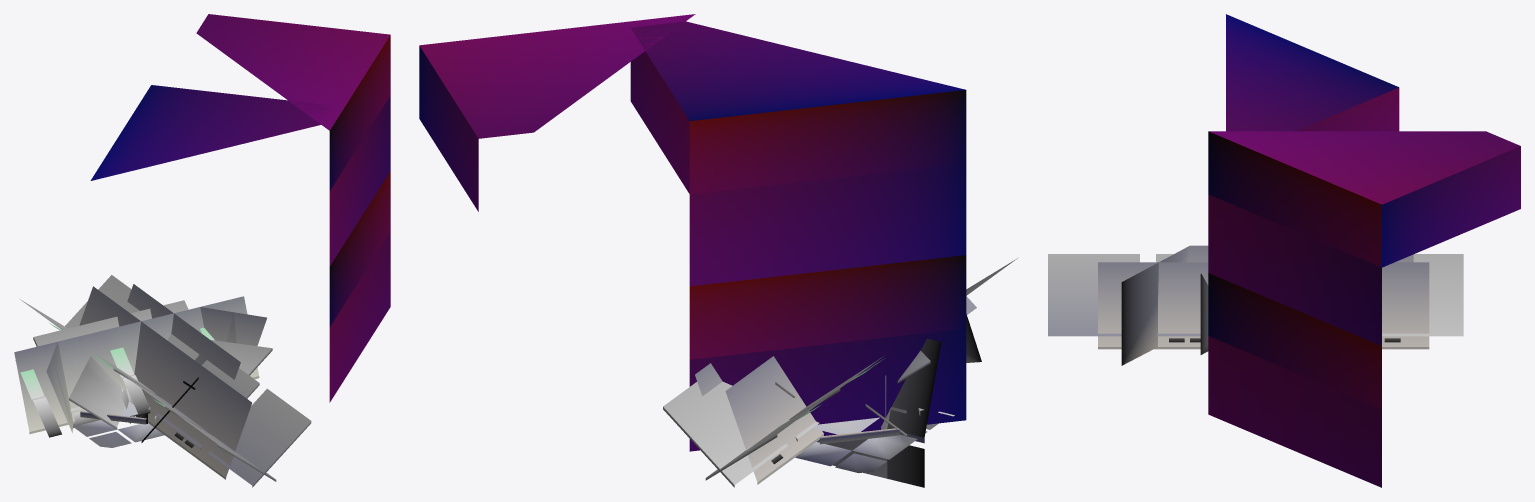
The model's file is arena_cage.glb.
3 views of the same model, side by side, from view 1: azimuth 30°, elevation 25°; view 2: azimuth 150°, elevation 25°; view 3: azimuth 270°, elevation 25° (orthographic). The views are drawn at different scales.
Parts seen in each view (by area): view 1: 0x4fd_Arena, 0x4fe_Arena, 0x53d_Arena_Upper_Level_Crowd_Balcony_Part_14_Polygon, 0x53c_Arena_Upper_Level_Crowd_Balcony_Part_7_Polygon, 0x53a_Arena_Upper_Level_Crowd_Balcony_Part_1_Polygon, 0x539_Arena_Upper_Level_Crowd_Balcony_Part_13_Polygon, 0x537_Arena_Right_Crowd_Back_Row_Polygon, 0x53e_Arena_Upper_Level_Crowd_Balcony_Part_3_Polygon, 0x53b_Arena_Upper_Level_Crowd_Balcony_Part_2_Polygon, 0x538_Arena_Upper_Level_Crowd_Balcony_Part_12_Polygon, 0x545_Arena_Crowd_Area_Behind_the_Stage_Left_Side_Part_1_Pol, 0x56a_Arena_Cage_Match_Outside_Floormats_Four_Corner_Section (+1 smaller); view 2: 0x4fe_Arena, 0x4fd_Arena, 0x53d_Arena_Upper_Level_Crowd_Balcony_Part_14_Polygon, 0x53c_Arena_Upper_Level_Crowd_Balcony_Part_7_Polygon, 0x543_Arena_Crowd_Area_Left_of_the_Stage_Part_1_Polygon, 0x56a_Arena_Cage_Match_Outside_Floormats_Four_Corner_Section, 0x545_Arena_Crowd_Area_Behind_the_Stage_Left_Side_Part_1_Pol, 0x53e_Arena_Upper_Level_Crowd_Balcony_Part_3_Polygon, 0x55e_Arena_Scaffolding_Piece_1_Polygon, 0x55a_Arena_Back_Rafter_Sign_Polygon, 0x544_Arena_Crowd_Area_Behind_the_Stage_Right_Side_Part_1_Po, 0x56b_Arena_Cage_Match_Outside_Floor_Pads_Larger_Pieces_Poly; view 3: 0x4fd_Arena, 0x4fe_Arena, 0x546_Arena_Upper_Level_Crowd_Balcony_Part_15_Polygon, 0x545_Arena_Crowd_Area_Behind_the_Stage_Left_Side_Part_1_Pol, 0x547_Arena_Upper_Level_Crowd_Balcony_Part_5_Polygon, 0x541_Arena_Upper_Level_Crowd_Balcony_Part_9_Polygon.
Part boxes in pixels (box(x1,y1,x2,y2)): 0x4fd_Arena: box(196, 14, 390, 402); 0x4fe_Arena: box(90, 85, 331, 180); 0x53d_Arena_Upper_Level_Crowd_Balcony_Part_14_Polygon: box(79, 286, 251, 479); 0x53c_Arena_Upper_Level_Crowd_Balcony_Part_7_Polygon: box(65, 275, 311, 487); 0x53a_Arena_Upper_Level_Crowd_Balcony_Part_1_Polygon: box(14, 307, 266, 434); 0x539_Arena_Upper_Level_Crowd_Balcony_Part_13_Polygon: box(46, 296, 259, 432); 0x537_Arena_Right_Crowd_Back_Row_Polygon: box(69, 300, 188, 429); 0x53e_Arena_Upper_Level_Crowd_Balcony_Part_3_Polygon: box(127, 284, 240, 379); 0x53b_Arena_Upper_Level_Crowd_Balcony_Part_2_Polygon: box(15, 327, 214, 437); 0x538_Arena_Upper_Level_Crowd_Balcony_Part_12_Polygon: box(33, 319, 272, 411); 0x545_Arena_Crowd_Area_Behind_the_Stage_Left_Side_Part_1_Pol: box(20, 299, 276, 481); 0x56a_Arena_Cage_Match_Outside_Floormats_Four_Corner_Section: box(73, 420, 164, 442); 0x4fe_Arena: box(630, 21, 966, 451); 0x4fd_Arena: box(419, 14, 695, 211); 0x53d_Arena_Upper_Level_Crowd_Balcony_Part_14_Polygon: box(725, 356, 823, 484); 0x53c_Arena_Upper_Level_Crowd_Balcony_Part_7_Polygon: box(663, 296, 976, 487); 0x543_Arena_Crowd_Area_Left_of_the_Stage_Part_1_Polygon: box(817, 338, 941, 487); 0x56a_Arena_Cage_Match_Outside_Floormats_Four_Corner_Section: box(795, 431, 927, 466); 0x545_Arena_Crowd_Area_Behind_the_Stage_Left_Side_Part_1_Pol: box(705, 257, 1018, 480); 0x53e_Arena_Upper_Level_Crowd_Balcony_Part_3_Polygon: box(695, 314, 981, 395); 0x55e_Arena_Scaffolding_Piece_1_Polygon: box(818, 408, 924, 444); 0x55a_Arena_Back_Rafter_Sign_Polygon: box(835, 423, 938, 472); 0x544_Arena_Crowd_Area_Behind_the_Stage_Right_Side_Part_1_Po: box(818, 410, 890, 478); 0x56b_Arena_Cage_Match_Outside_Floor_Pads_Larger_Pieces_Poly: box(813, 417, 879, 434); 0x4fd_Arena: box(1208, 131, 1520, 487); 0x4fe_Arena: box(1226, 14, 1399, 137); 0x546_Arena_Upper_Level_Crowd_Balcony_Part_15_Polygon: box(1098, 262, 1429, 349); 0x545_Arena_Crowd_Area_Behind_the_Stage_Left_Side_Part_1_Pol: box(1048, 254, 1463, 336); 0x547_Arena_Upper_Level_Crowd_Balcony_Part_5_Polygon: box(1121, 245, 1413, 365); 0x541_Arena_Upper_Level_Crowd_Balcony_Part_9_Polygon: box(1200, 273, 1208, 354).
Bounding box in the file's own units: 25.7 × 19.01 × 25.17.
